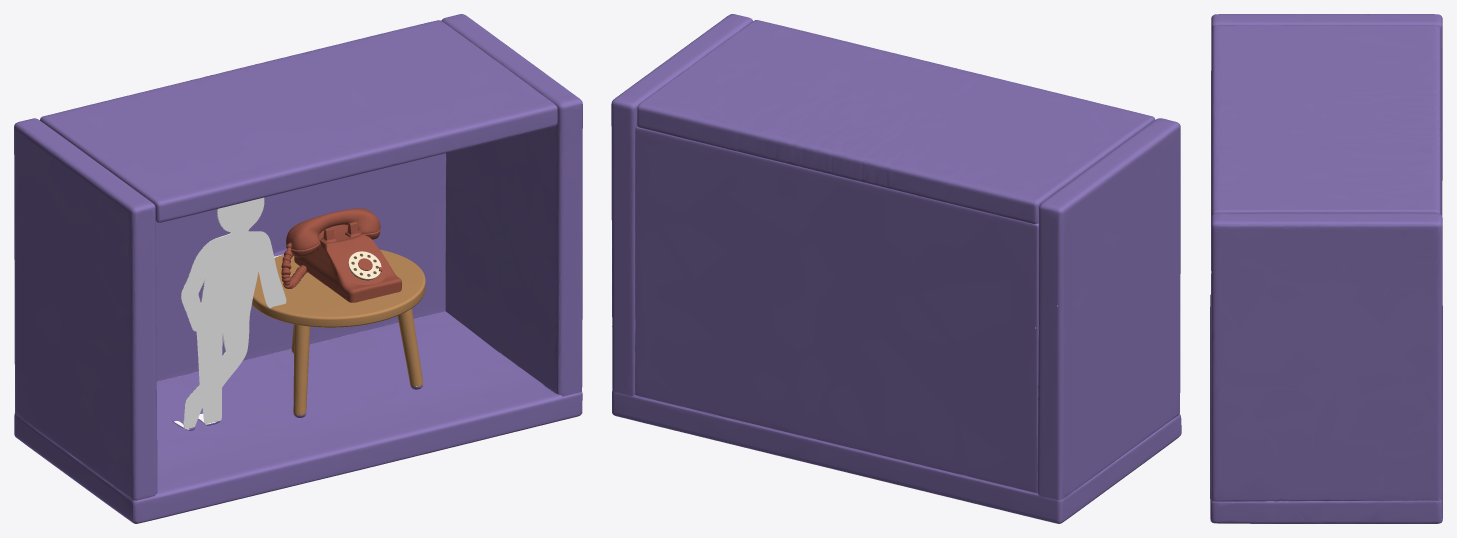
Rendered from rotary-phone-room-house-style-r5.glb.
3 renders of one model, left to right at view 1: azimuth 30°, elevation 25°; view 2: azimuth 150°, elevation 25°; view 3: azimuth 270°, elevation 25°, orthographic. The views are drawn at different scales.
Visible parts, largest first — view 1: contact-source-room-1, contact-source-cutout-paper-face, contact-source-table-clean-top, contact-source-phone-4, contact-source-table-3, contact-source-cord-4; view 2: contact-source-room-1; view 3: contact-source-room-1.
Boxes of the visible parts, box(x1,y1,x2,y2) form: contact-source-room-1: box(14, 14, 582, 523); contact-source-cutout-paper-face: box(181, 197, 286, 429); contact-source-table-clean-top: box(252, 249, 425, 327); contact-source-phone-4: box(288, 208, 401, 302); contact-source-table-3: box(291, 308, 422, 415); contact-source-cord-4: box(281, 234, 326, 288); contact-source-room-1: box(611, 14, 1181, 523); contact-source-room-1: box(1210, 14, 1442, 523).
Size of the model in its own units: 0.9796 by 0.6566 by 0.457.
